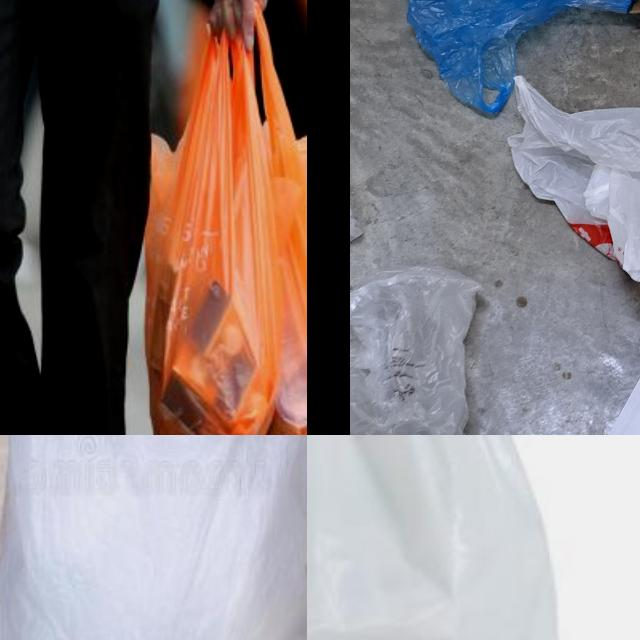sacola plástica: (0, 435, 307, 640), (140, 0, 266, 435), (307, 435, 573, 640), (379, 0, 632, 114), (506, 76, 640, 288), (350, 268, 482, 435), (263, 0, 307, 435)
